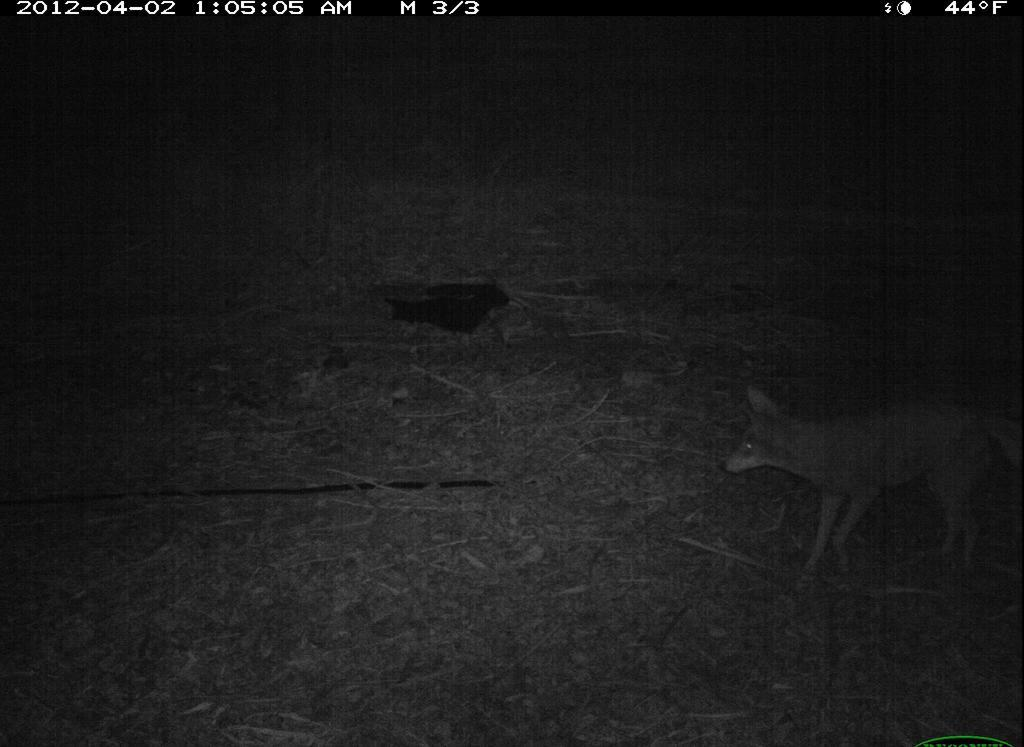coyote: (655, 349, 1021, 619)
